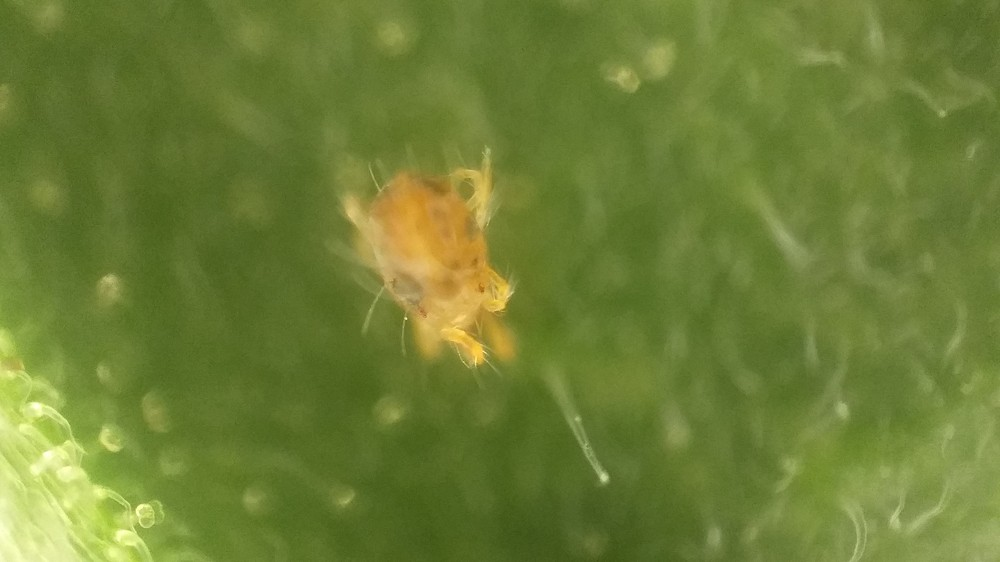Aracnido Rojo: (311, 133, 573, 395)
